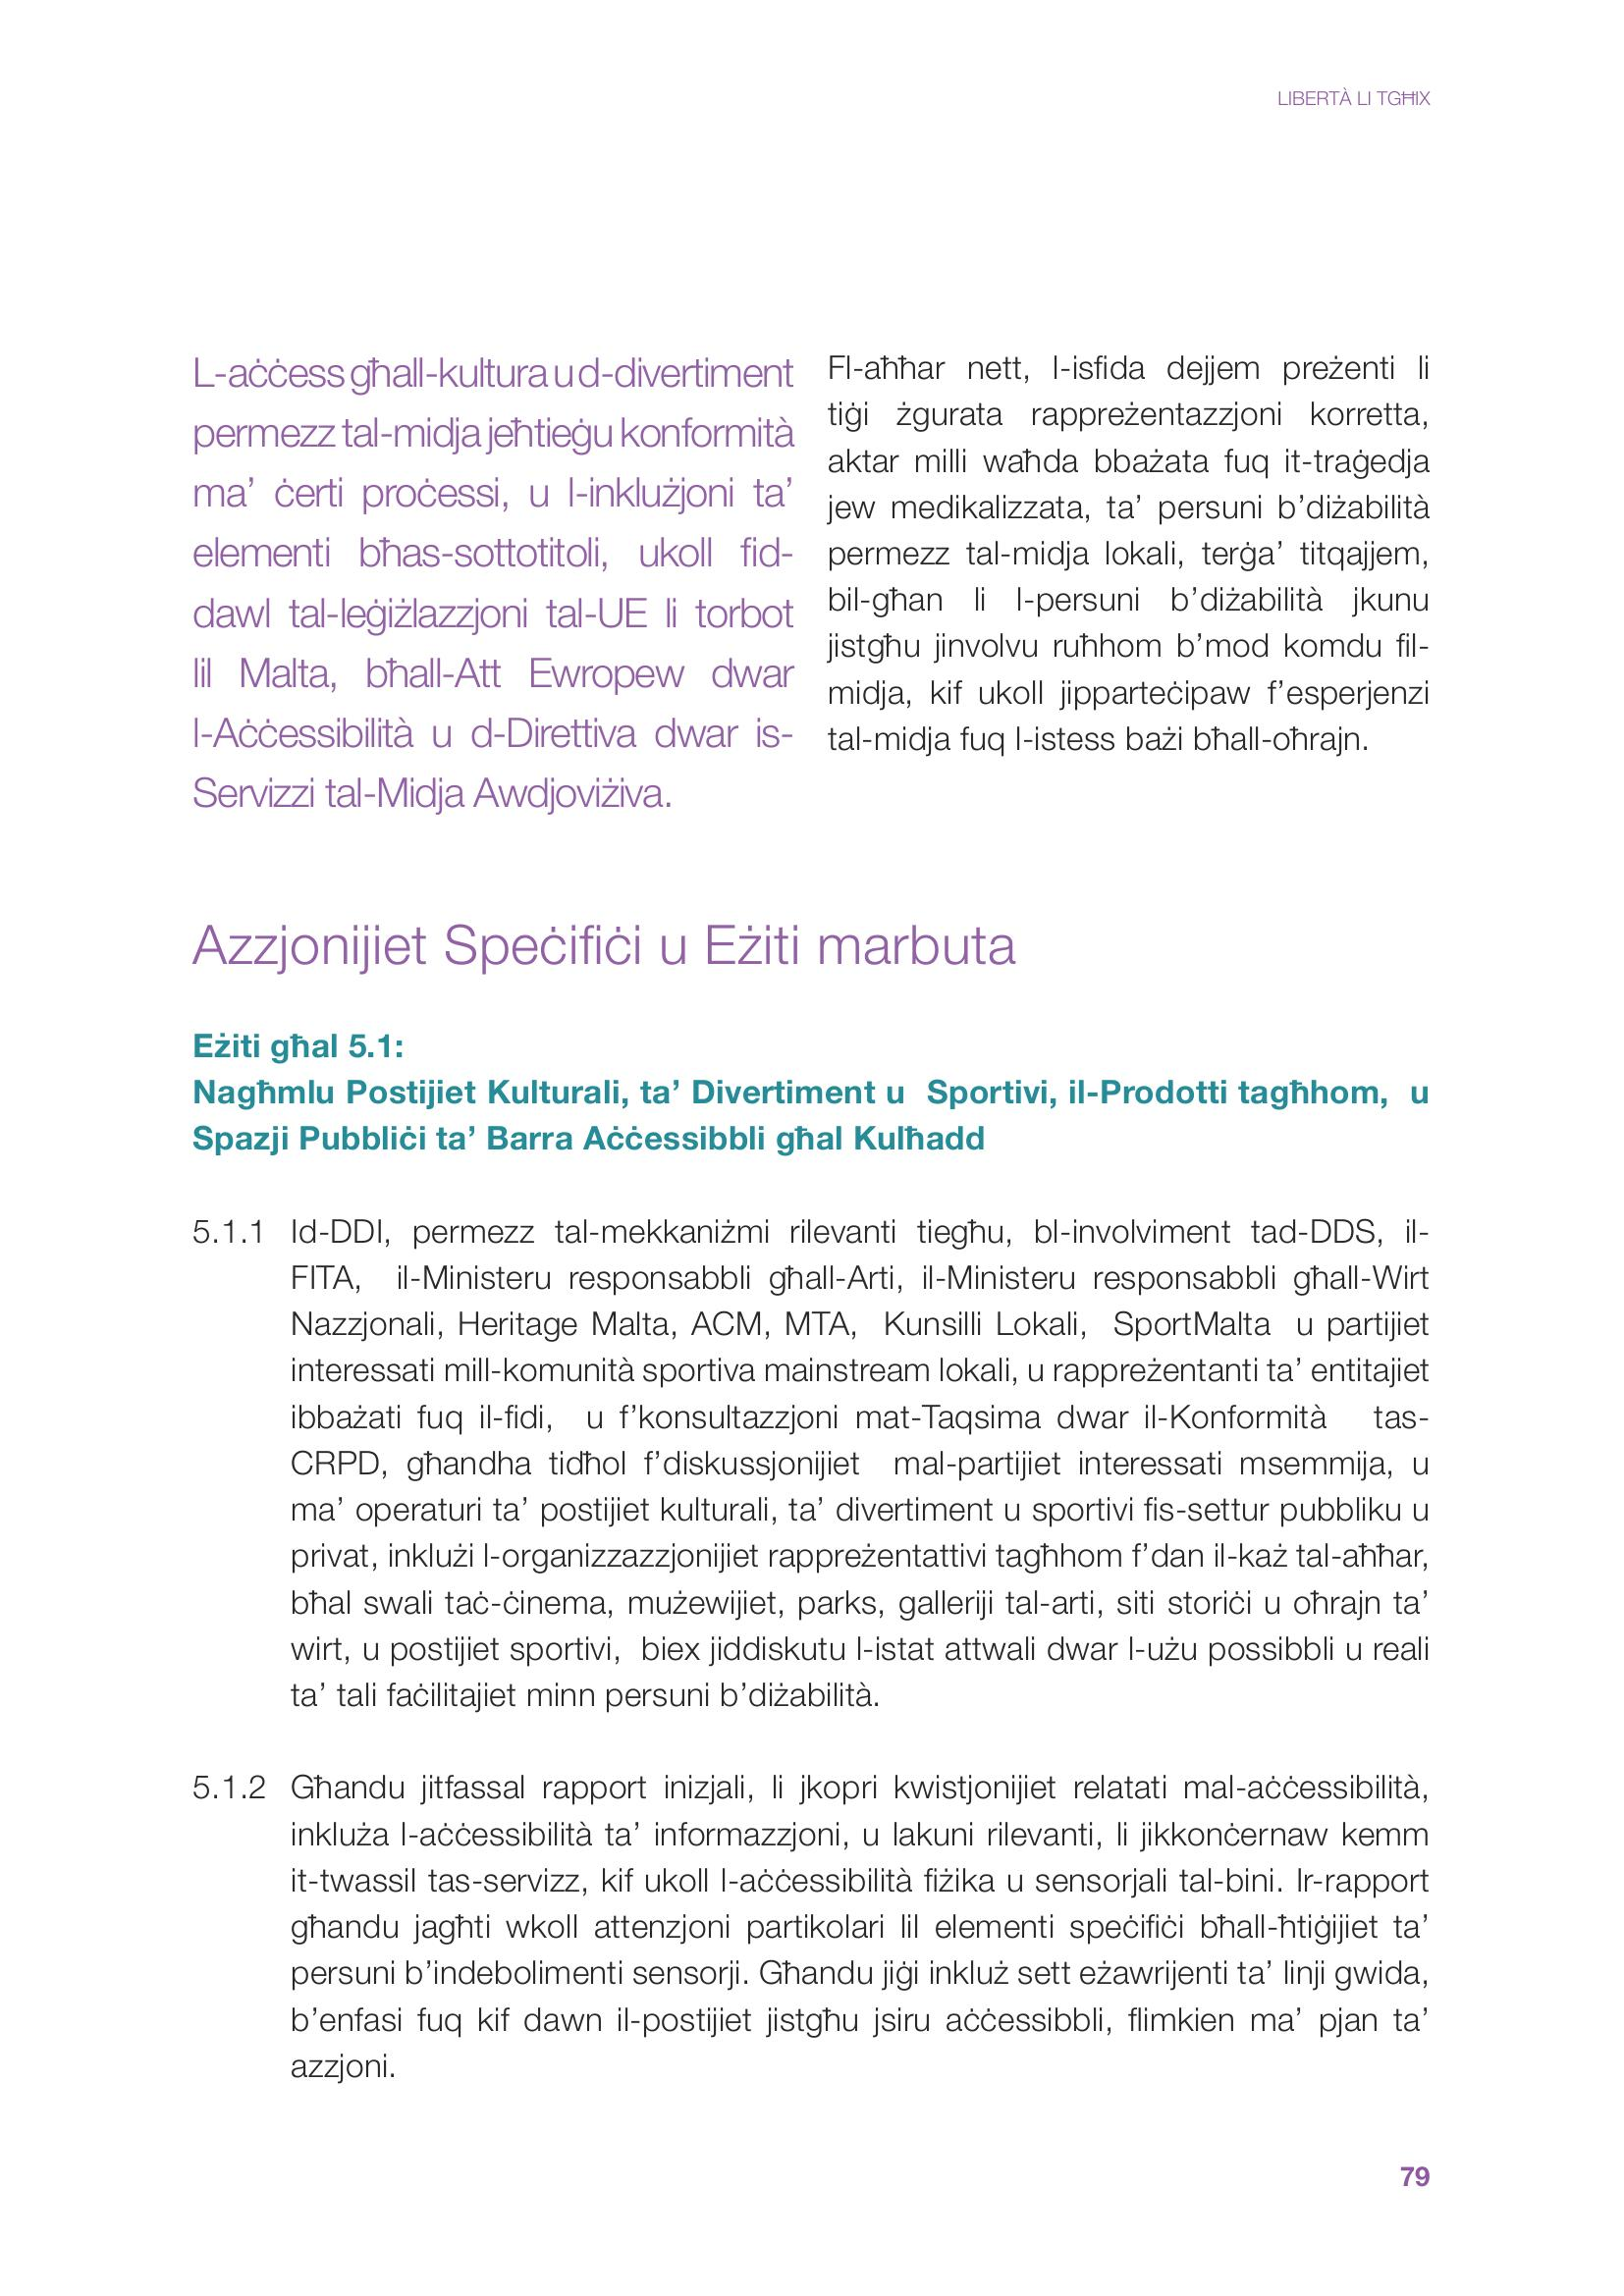text: (169, 908, 1441, 2096), (165, 339, 810, 826), (816, 341, 1450, 798)
